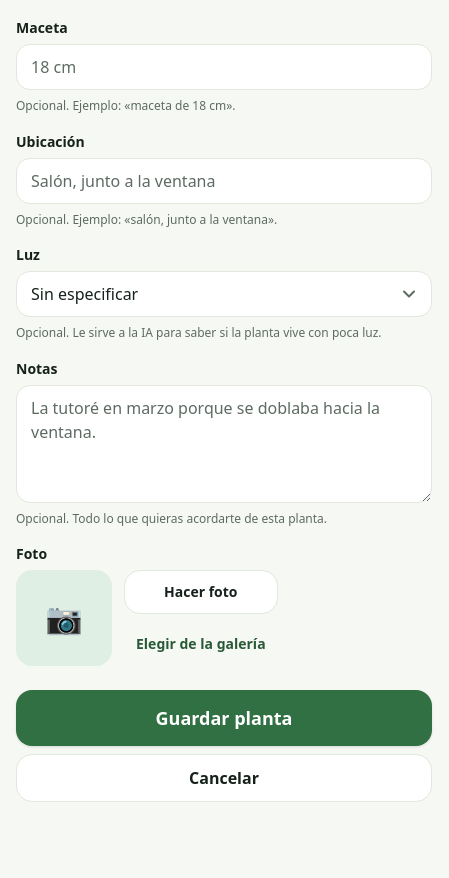
Test: <FormularioPlanta> › no deja guardar una planta sin nombre
(page scrolled)
Click the button "Guardar planta".
click(224, 718)  # box [16, 690, 432, 746]
(page scrolled)
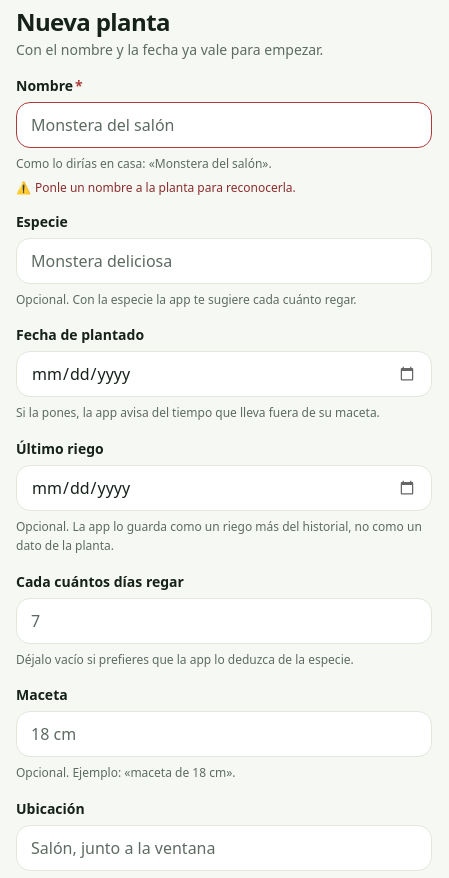
Expected: the text "Ponle un nombre a la planta para reconocerla." is shown, [35, 180, 296, 196]
